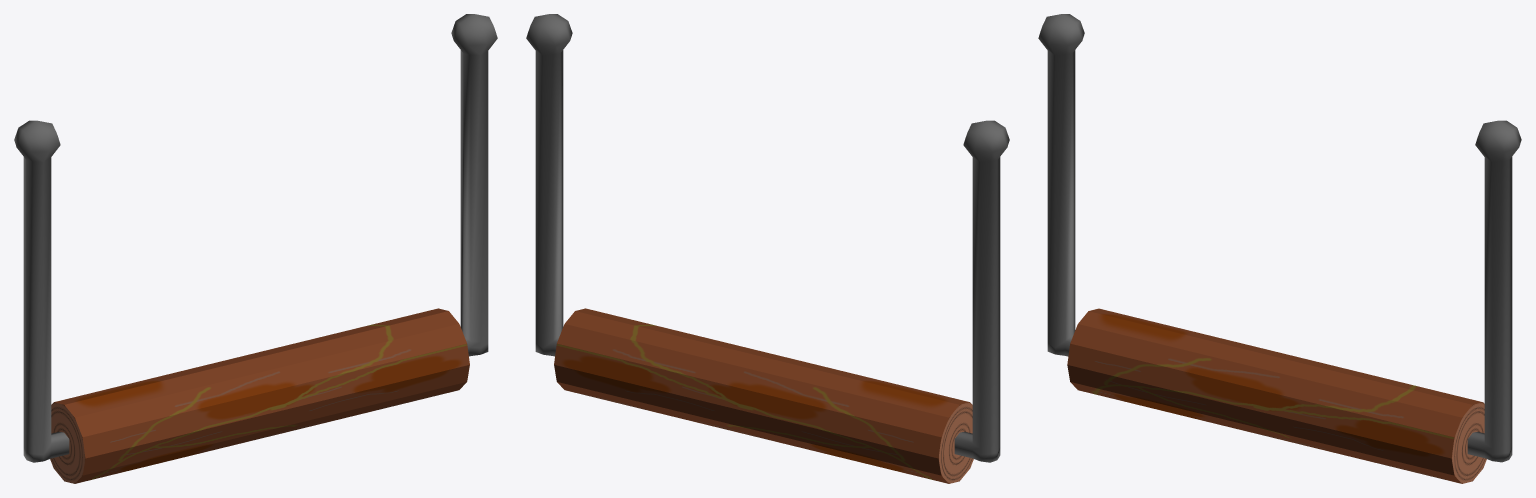
The model's file is New_Super_Carlos_el_Topo_que_Jira.fbx.
3 views of the same model, side by side, from view 1: azimuth 30°, elevation 25°; view 2: azimuth 150°, elevation 25°; view 3: azimuth 330°, elevation 25° (orthographic).
Parts seen in each view (by area): view 1: carlos; view 2: carlos; view 3: carlos.
Boxes of the visible parts, x1=… form: carlos: x1=14, y1=14, x2=497, y2=483; carlos: x1=526, y1=14, x2=1009, y2=483; carlos: x1=1038, y1=14, x2=1521, y2=483.
Bounding box in the file's own units: 2009 × 1472 × 307.
